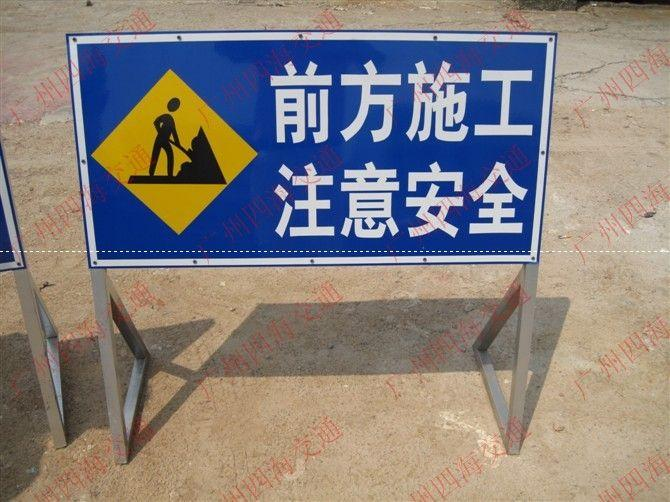sign: (68, 36, 560, 273)
